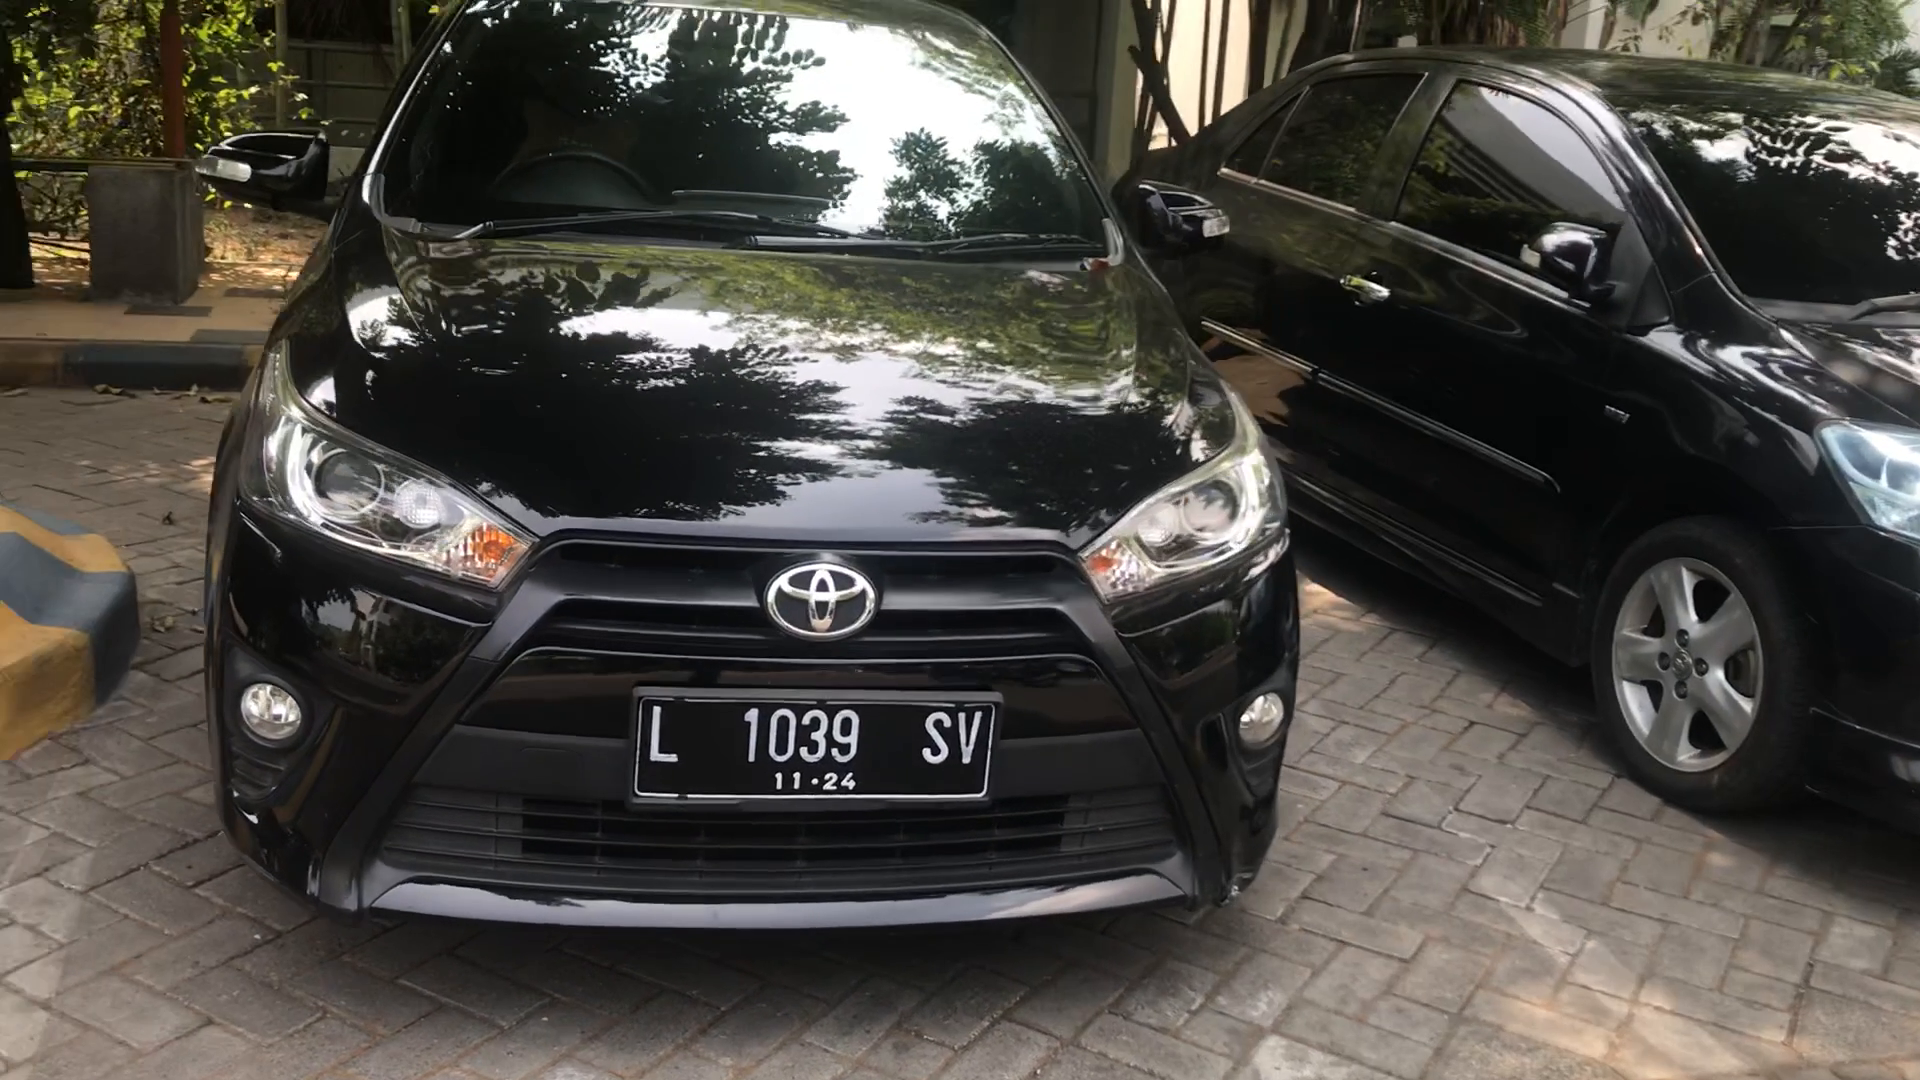plate: (632, 687, 992, 795)
